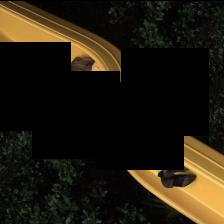yellow: (0, 0, 224, 224), (102, 91, 165, 174), (90, 61, 110, 106)
